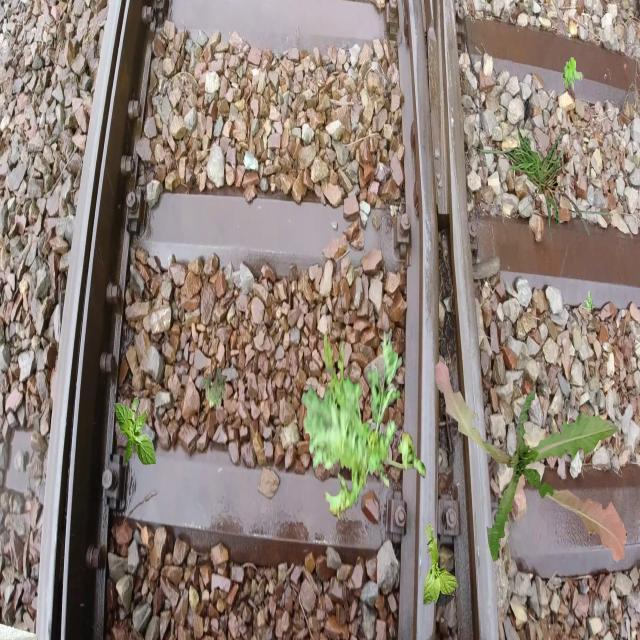Plant: (434, 361, 626, 564), (301, 328, 426, 524), (470, 127, 614, 246), (115, 397, 156, 468), (423, 523, 458, 606), (202, 368, 228, 410), (563, 57, 584, 90), (581, 290, 595, 310)
